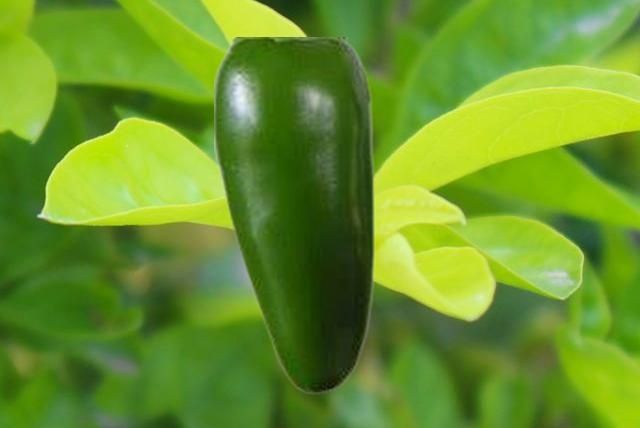green_chili: (214, 37, 374, 394)
